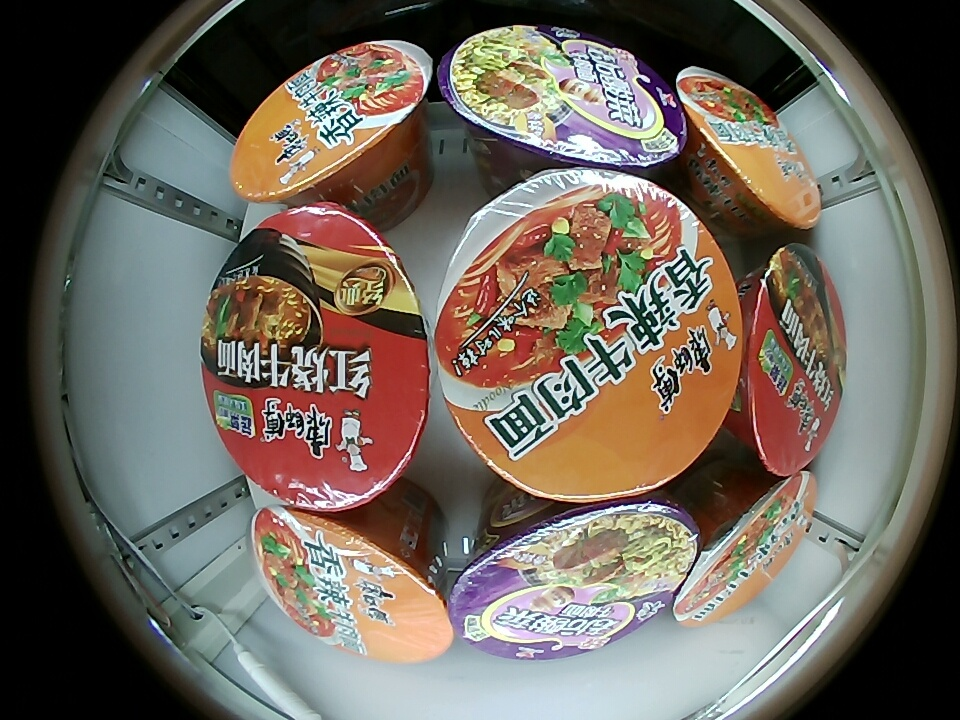hongshaoniurou: (199, 206, 432, 511), (742, 244, 846, 474)
laotansuancai: (451, 495, 699, 660), (438, 26, 688, 176)
xianglaniurou: (435, 166, 745, 501), (231, 42, 431, 204), (252, 507, 454, 663), (677, 66, 820, 229), (674, 472, 817, 627)
